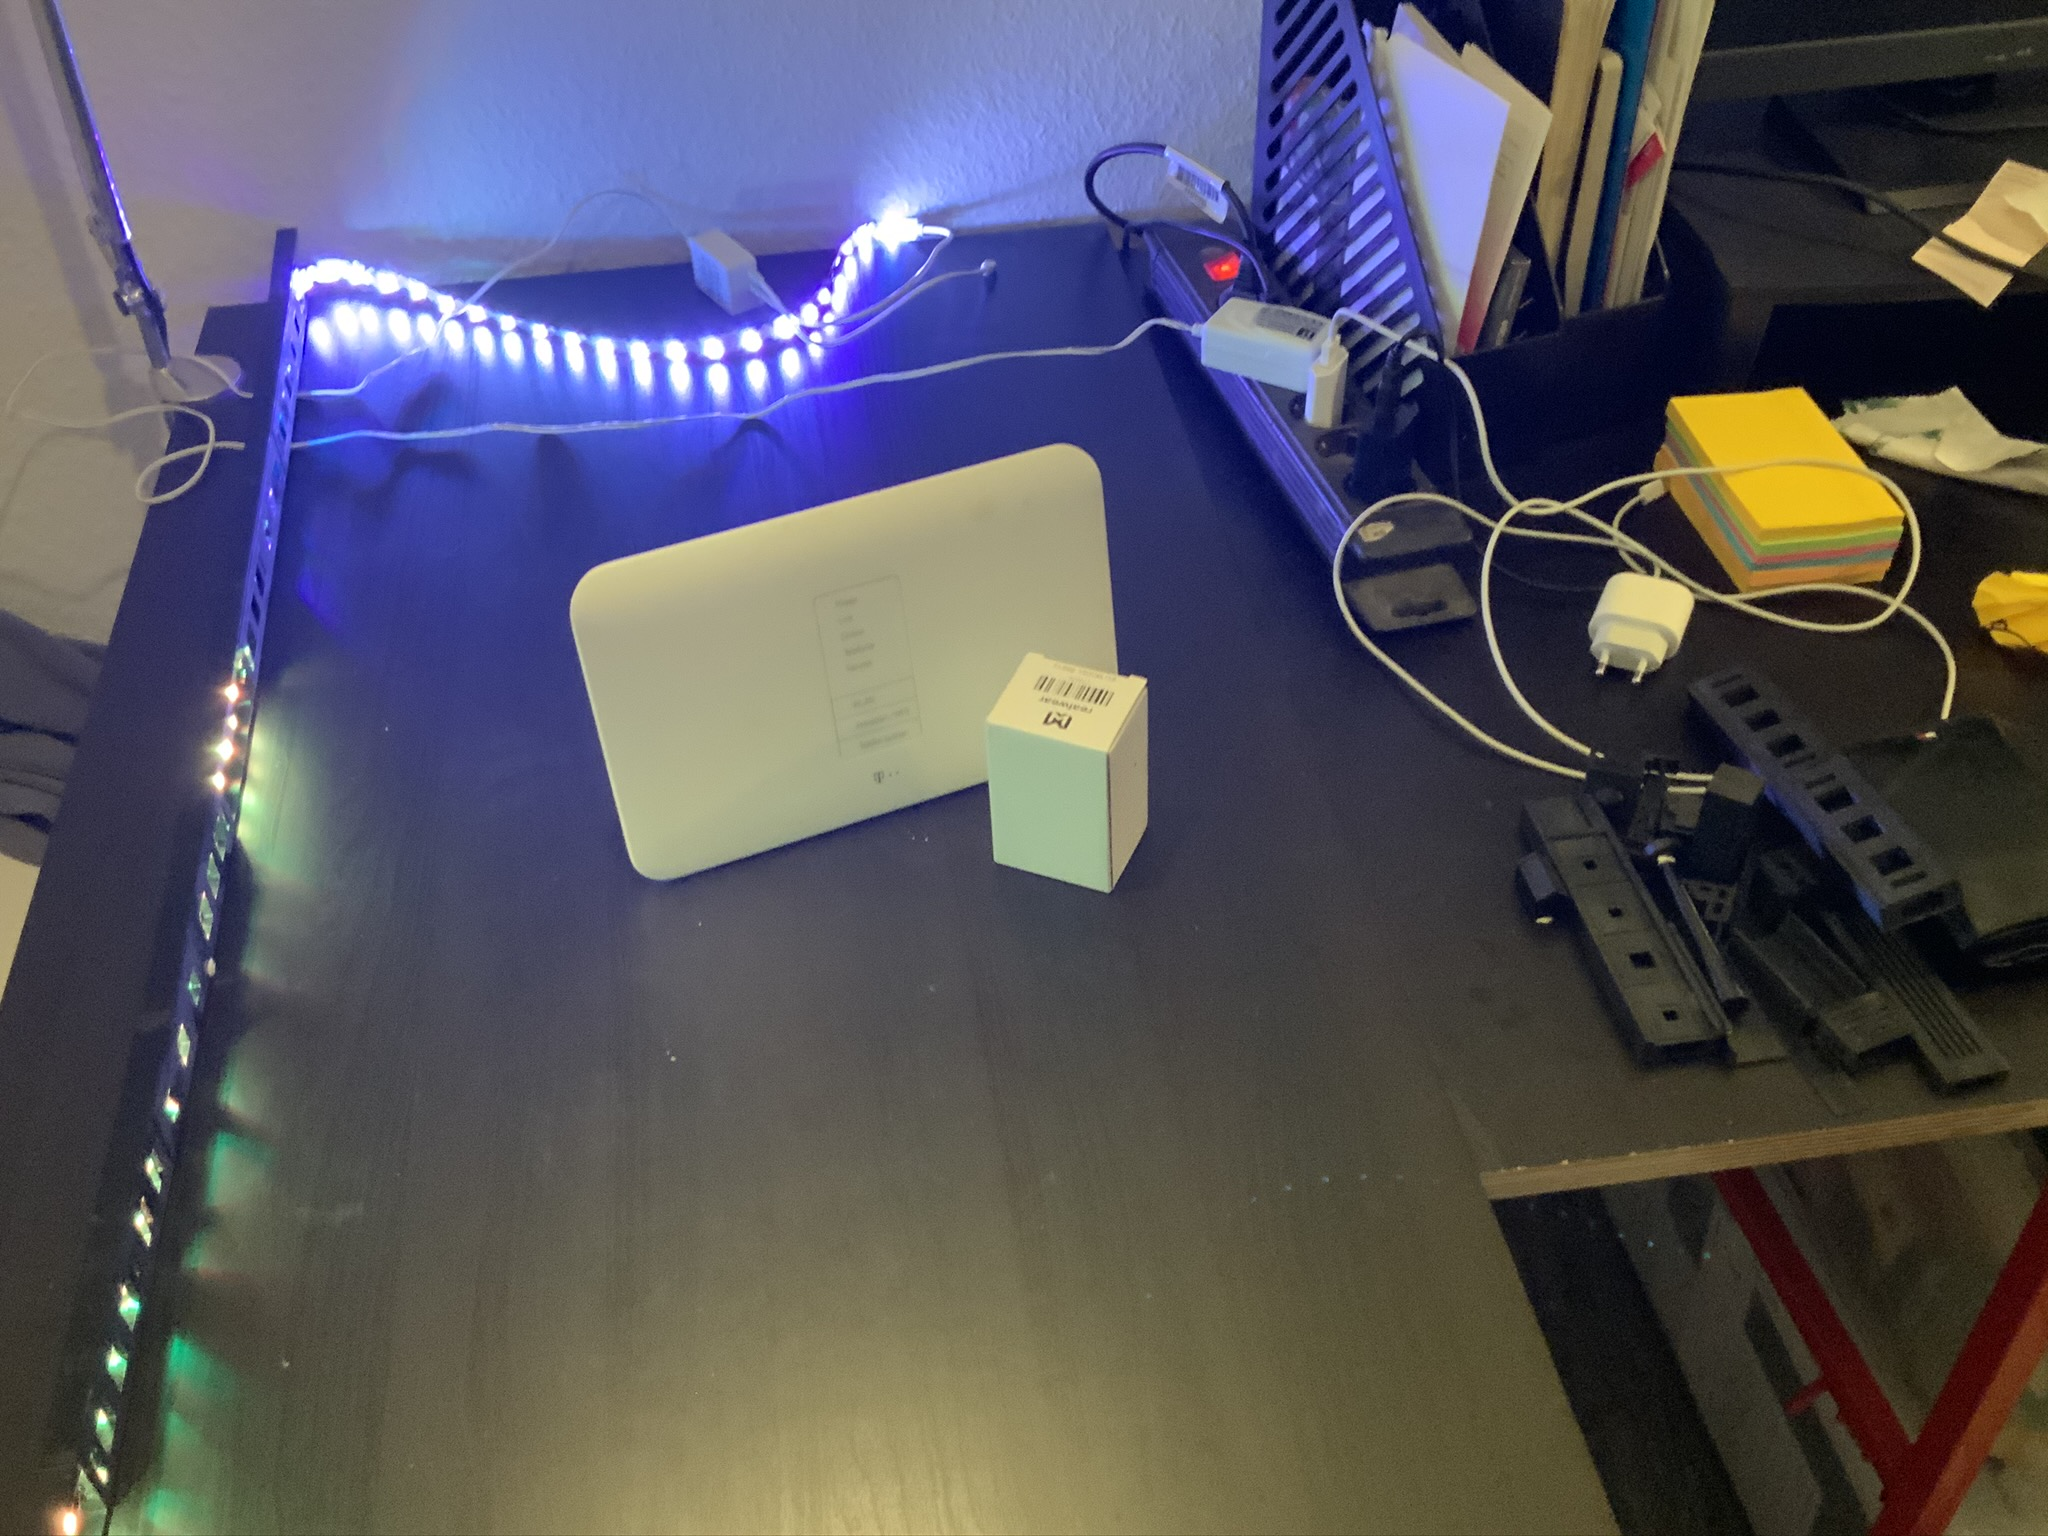router: (564, 437, 1129, 895)
